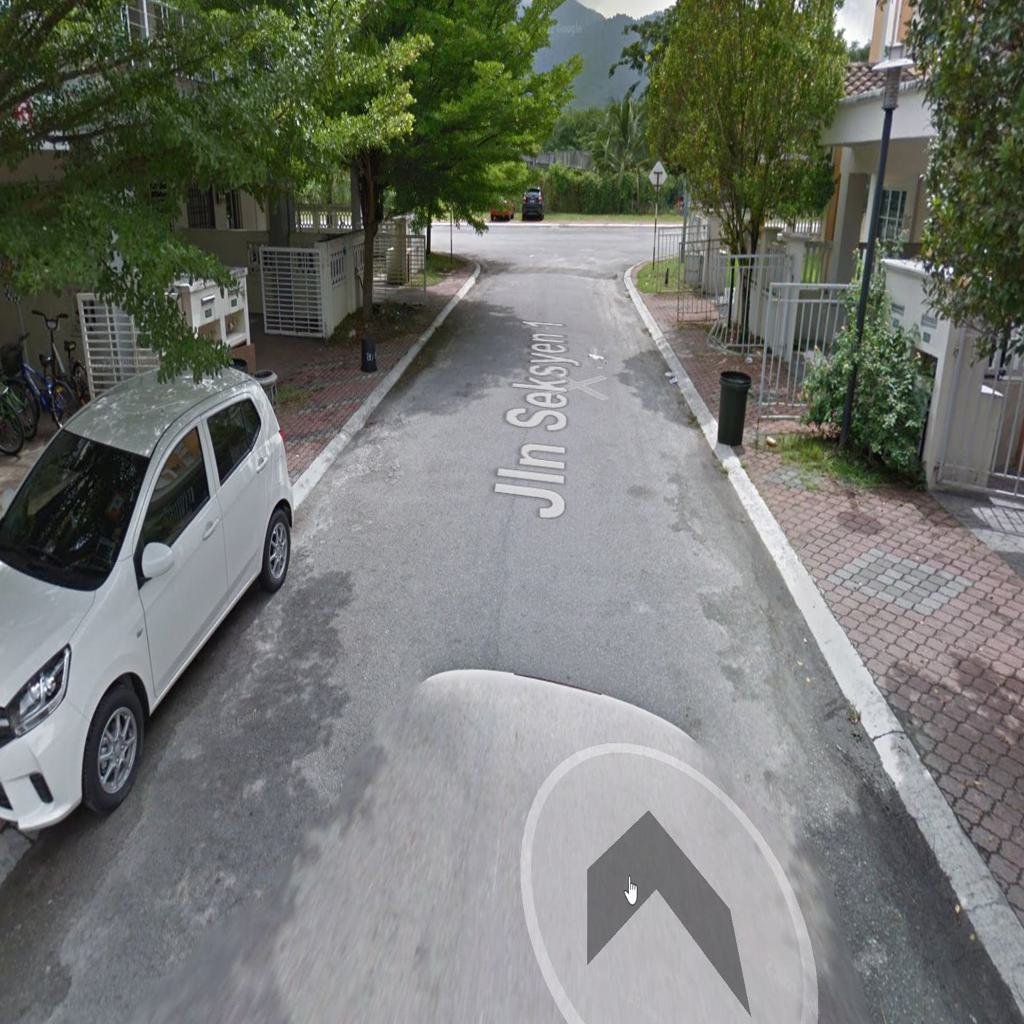Junction: (608, 196, 692, 286), (424, 196, 493, 270)
